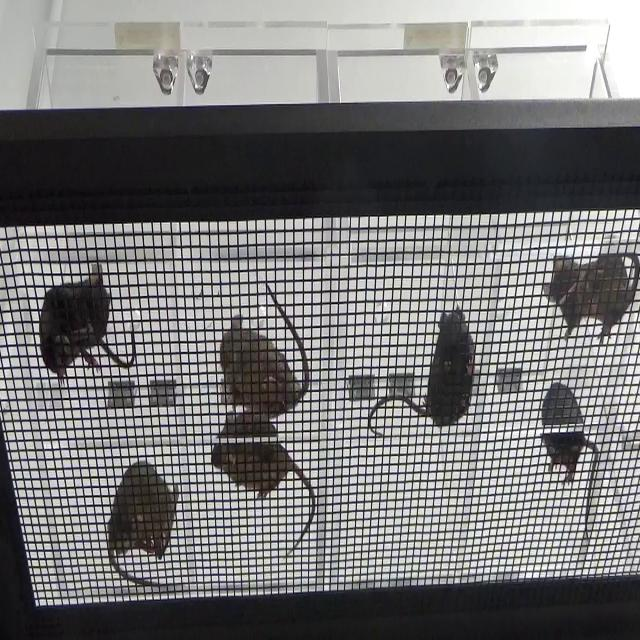lick tail: (26, 246, 145, 387)
scratch: (537, 232, 639, 352)
